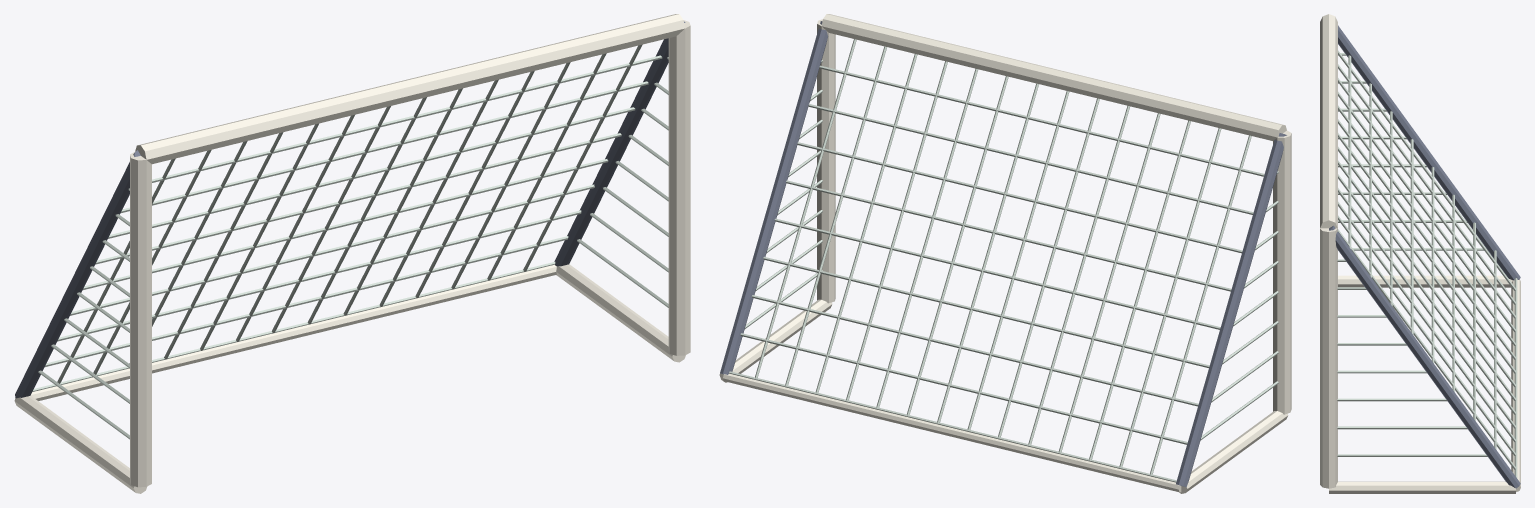
File: soccer_goal.glb
The picture shows the model from 3 angles, left to right: view 1: azimuth 30°, elevation 25°; view 2: azimuth 150°, elevation 25°; view 3: azimuth 270°, elevation 25°; orthographic projection. The views are drawn at different scales.
Visible parts, largest first — view 1: soccer_goal_Mesh; view 2: soccer_goal_Mesh; view 3: soccer_goal_Mesh.
Part boxes in pixels (<box>): soccer_goal_Mesh: <box>14,14,690,493</box>; soccer_goal_Mesh: <box>719,14,1291,493</box>; soccer_goal_Mesh: <box>1320,14,1520,493</box>.
Bounding box in the file's own units: 3.11 × 1.86 × 1.24.
